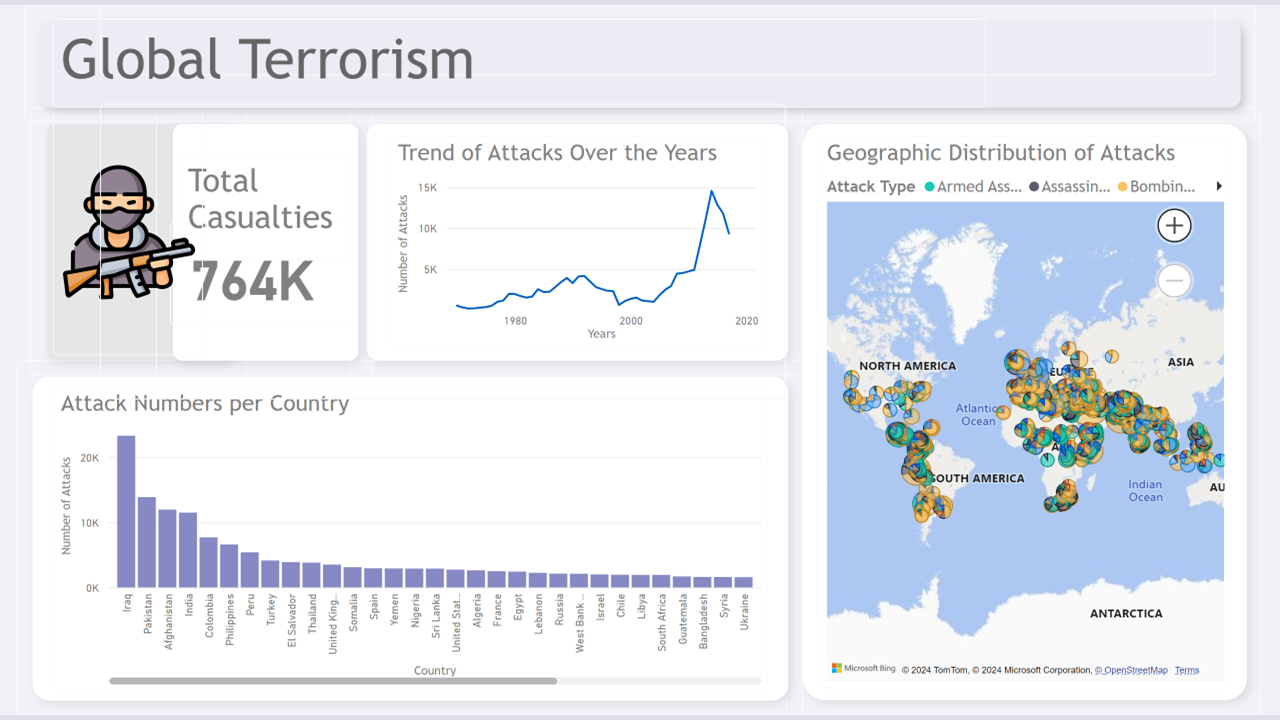

The page's visual inventory and layout, read from the dashboard file:
{"tool":"powerbi","page":{"name":"P1","canvas":[1280,720],"ordinal":0},"visuals":[{"type":"shape","box":[785.7,104.3,475.7,615.7],"z":0},{"type":"map","title":"Geographic Distribution of Attacks","fields":{"Y":["GBT_cleaned.Latitude"],"Series":["GBT_cleaned.Attack Type"],"X":["GBT_cleaned.Longitude"],"Size":["CountNonNull(GBT_cleaned.Casualties)"]},"box":[818.6,132.9,411.4,560],"z":1000},{"type":"shape","box":[15.7,360,787.1,360],"z":2000},{"type":"shape","box":[350,104.3,452.9,271.4],"z":3000},{"type":"lineChart","title":"Trend of Attacks Over the Years","fields":{"Category":["GBT_cleaned.Year"],"Y":["CountNonNull(GBT_cleaned.Year)"]},"box":[390,132.9,374.3,212.9],"z":4000},{"type":"clusteredColumnChart","title":"Attack Numbers per Country","fields":{"Y":["CountNonNull(GBT_cleaned.Country)"],"Category":["GBT_cleaned.Country"]},"box":[52.9,387.1,714.3,308.6],"z":5000},{"type":"shape","box":[30,104.3,217.1,271.4],"z":6000},{"type":"shape","box":[155.7,104.3,217.1,271.4],"z":7000},{"type":"cardVisual","title":"Total Casualties","fields":{"Data":["Sum(GBT_cleaned.Casualties)"]},"box":[170,220,188.6,105.7],"z":8000},{"type":"textbox","box":[180,151.4,170,107.1],"z":9000},{"type":"image","box":[52.9,104.3,150,251.4],"z":10000},{"type":"shape","box":[24.3,0,1231.4,118.6],"z":11000},{"type":"textbox","box":[100,100,685.7,300],"z":12000},{"type":"textbox","box":[100,0,1115.7,71.4],"z":13000},{"type":"textbox","box":[52.9,14.3,932.9,90],"z":14000}]}

Visuals, with their boxes in screenshot pixels (x1, y1, x2, y2), scaled from the page's 1280x720 canvas onto the 1280x720 screenshot:
shape: [786,104,1261,719]
"Geographic Distribution of Attacks" map: [819,133,1230,693]
shape: [16,360,803,719]
shape: [350,104,803,376]
"Trend of Attacks Over the Years" lineChart: [390,133,764,346]
"Attack Numbers per Country" clusteredColumnChart: [53,387,767,696]
shape: [30,104,247,376]
shape: [156,104,373,376]
"Total Casualties" cardVisual: [170,220,359,326]
textbox: [180,151,350,258]
image: [53,104,203,356]
shape: [24,0,1256,119]
textbox: [100,100,786,400]
textbox: [100,0,1216,71]
textbox: [53,14,986,104]
